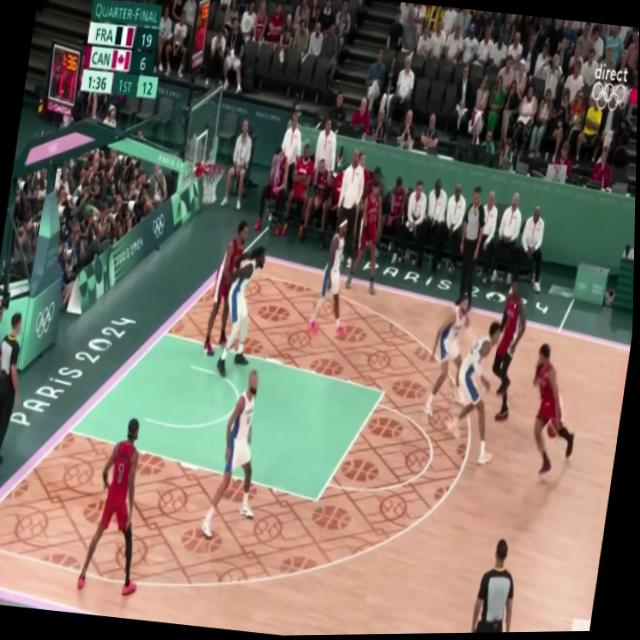ball_handler: (521, 343, 585, 481)
